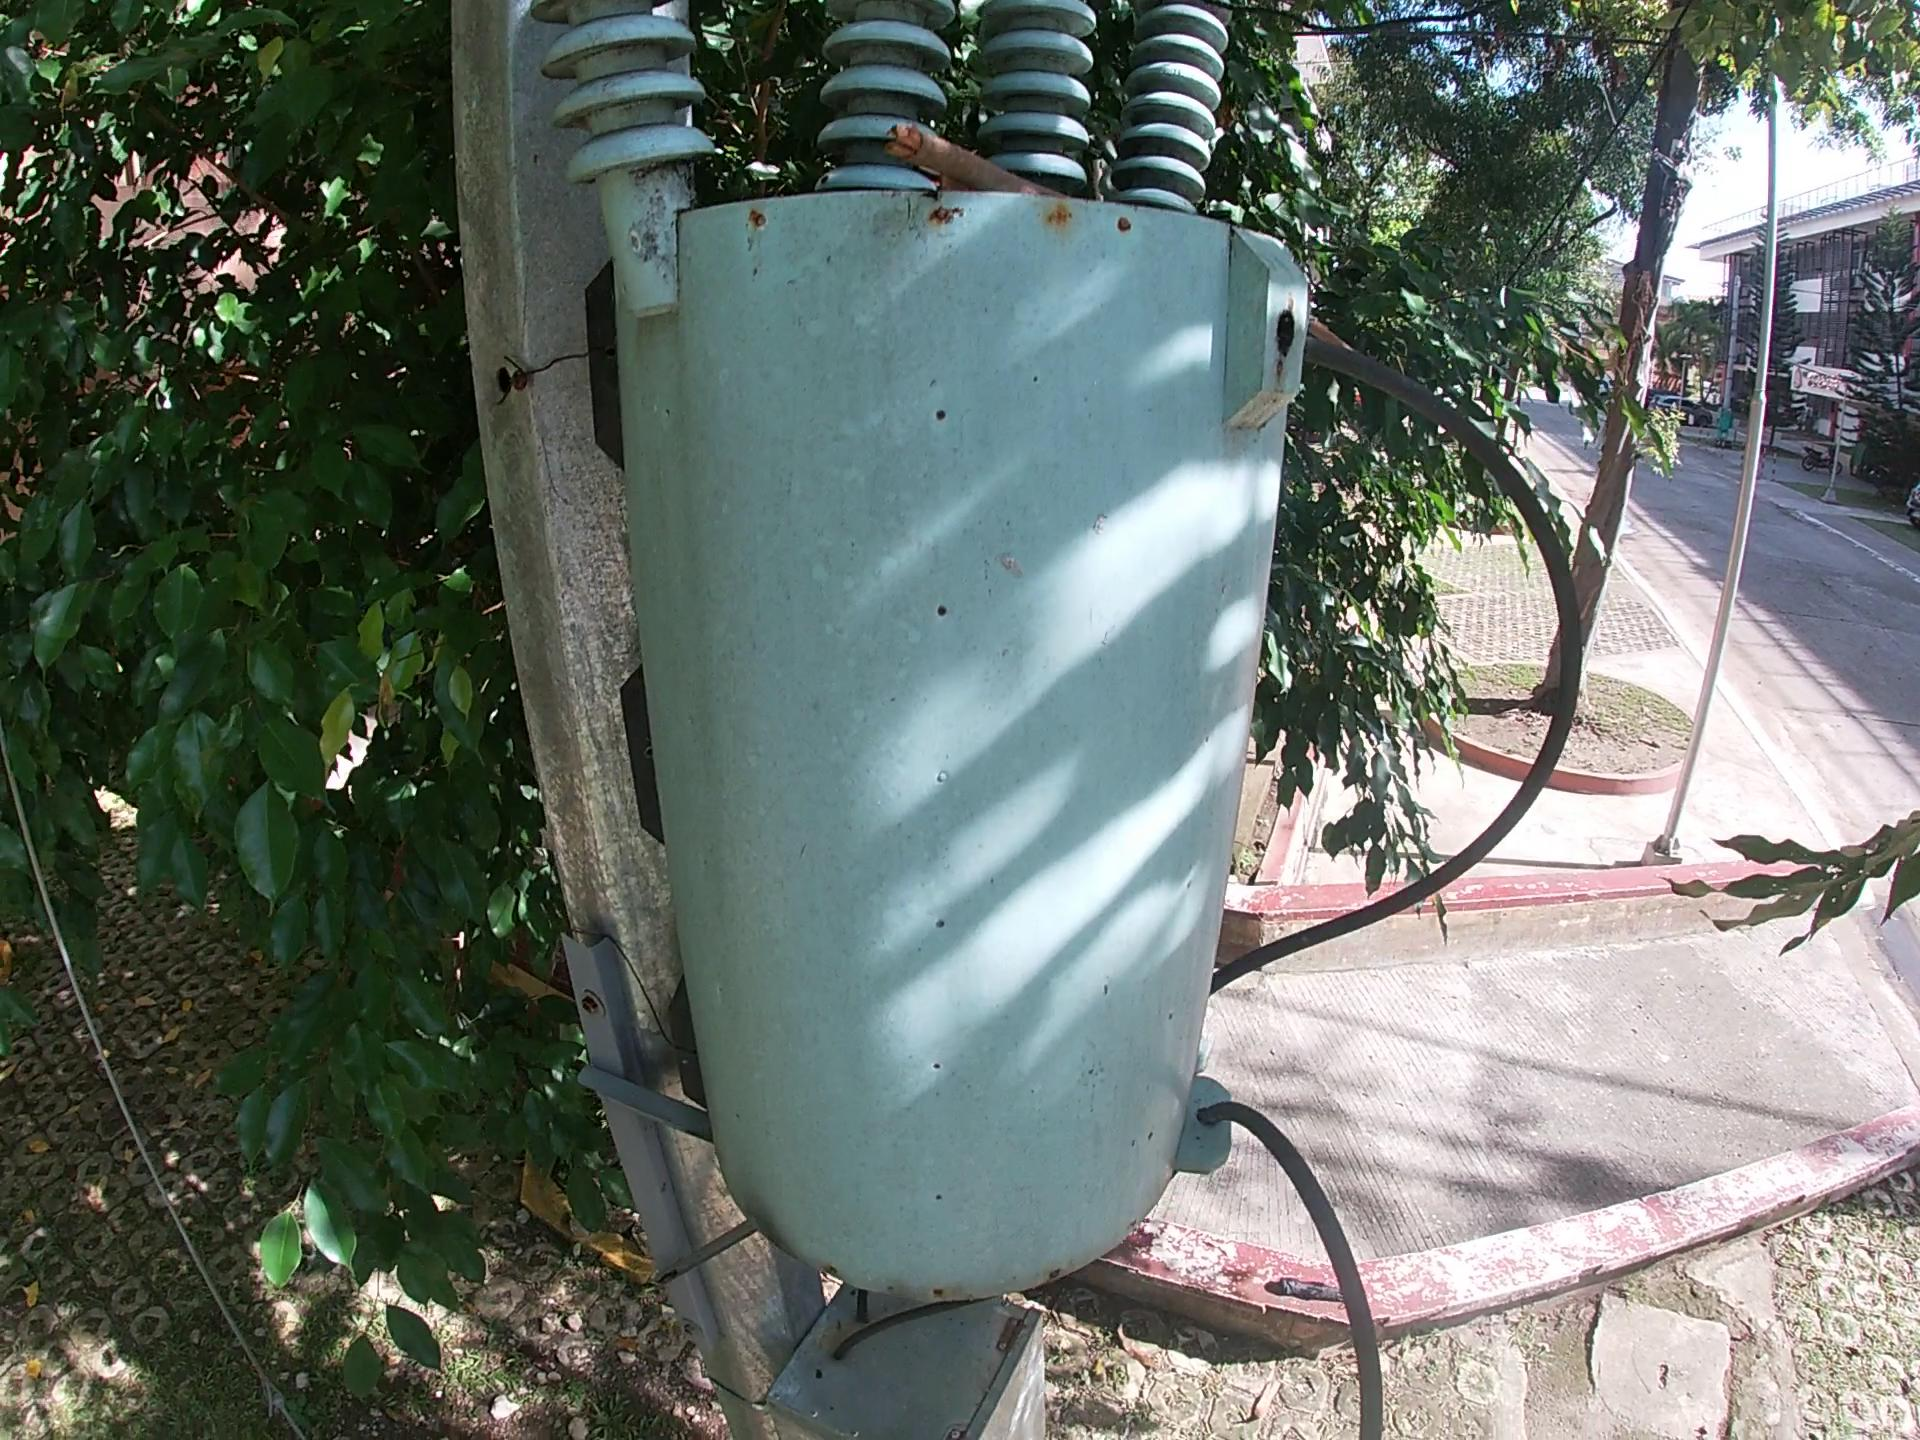tree branch: (881, 119, 1070, 200), (1305, 315, 1356, 351)
